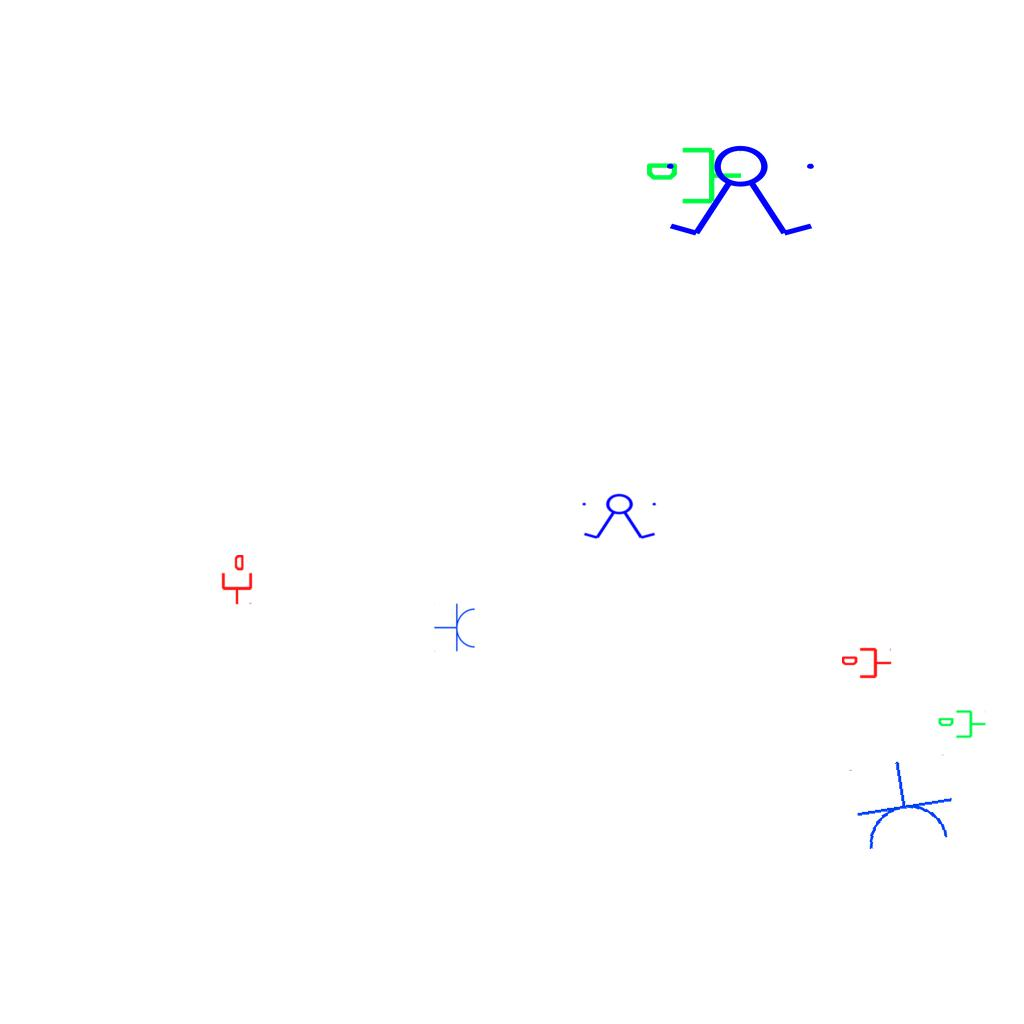Datenanschluss_einfach: (644, 143, 744, 212), (937, 708, 987, 742), (842, 646, 892, 680), (220, 555, 254, 605)
Schukosteckdose_einfach: (846, 753, 960, 856), (434, 603, 477, 653)
Serienschalter: (658, 144, 826, 240), (578, 493, 662, 541)
